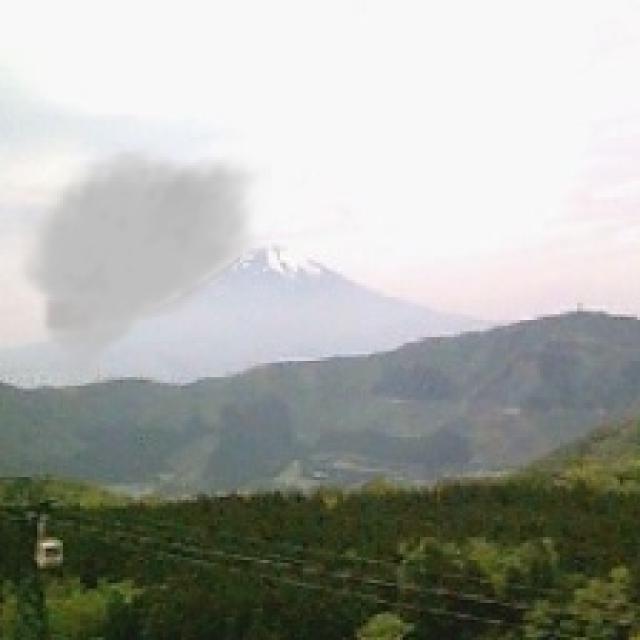Smoke: (12, 143, 272, 403)
